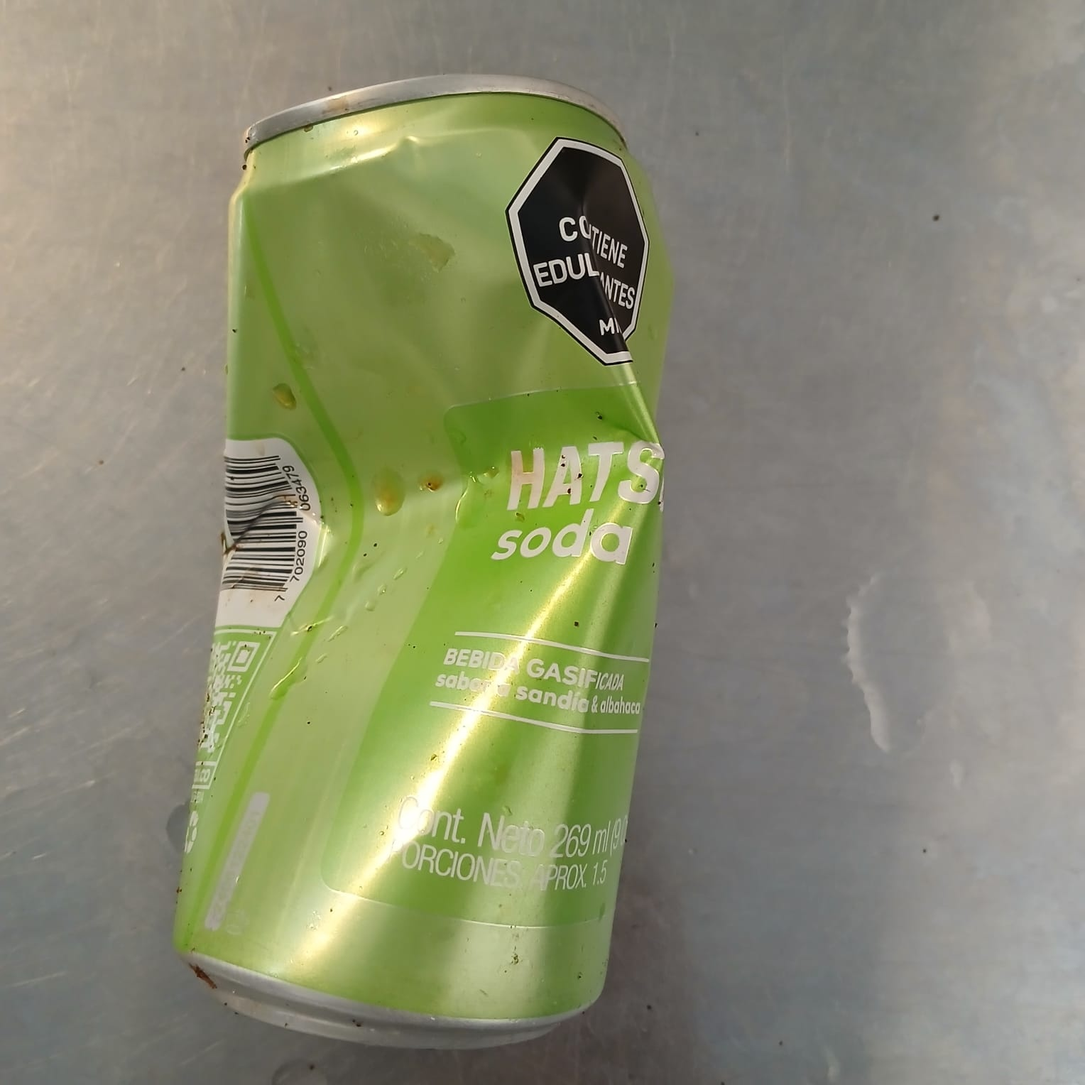Metal: (166, 70, 666, 1046)
